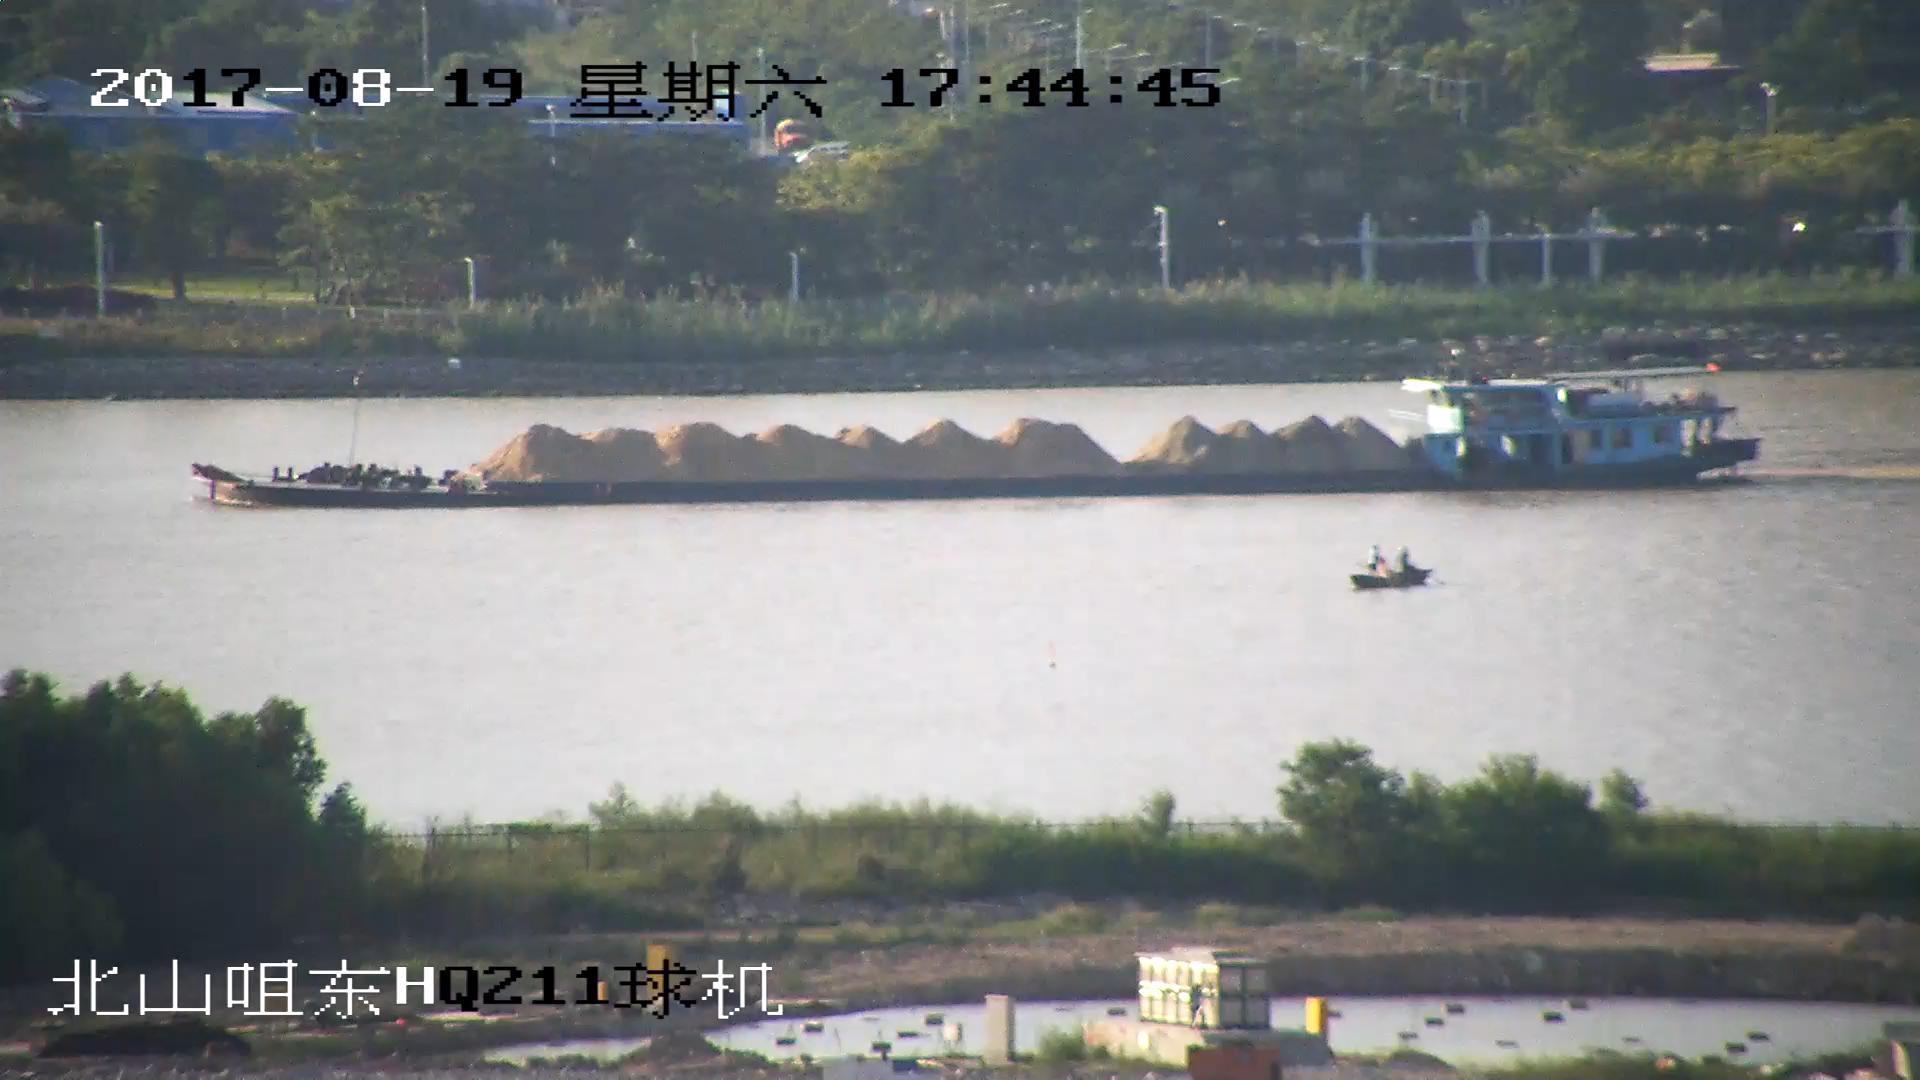Ship: (189, 347, 1764, 516), (1352, 543, 1435, 591)
